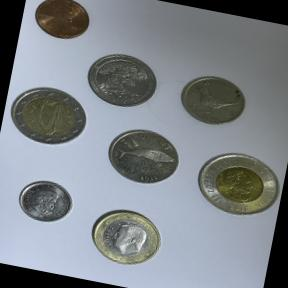1 Euro-B: (80, 200, 172, 275)
2 Euro-B: (2, 78, 96, 154)
Canada-10cent-B: (12, 172, 80, 230)
Canada-2Dollar-B: (183, 136, 288, 227)
Croatia-2Kune-B: (98, 119, 188, 194)
US-1cent-B: (23, 0, 98, 48)
US-25cent-B: (80, 44, 168, 116)
